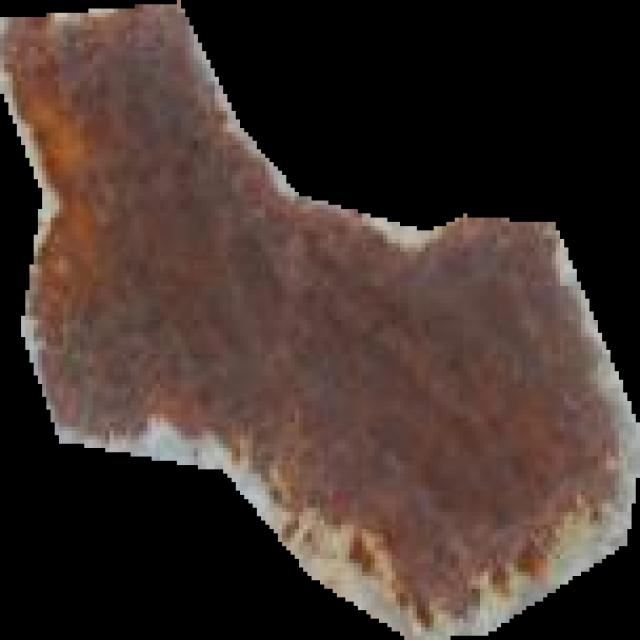Uniform Corrosion: (0, 0, 640, 640)
